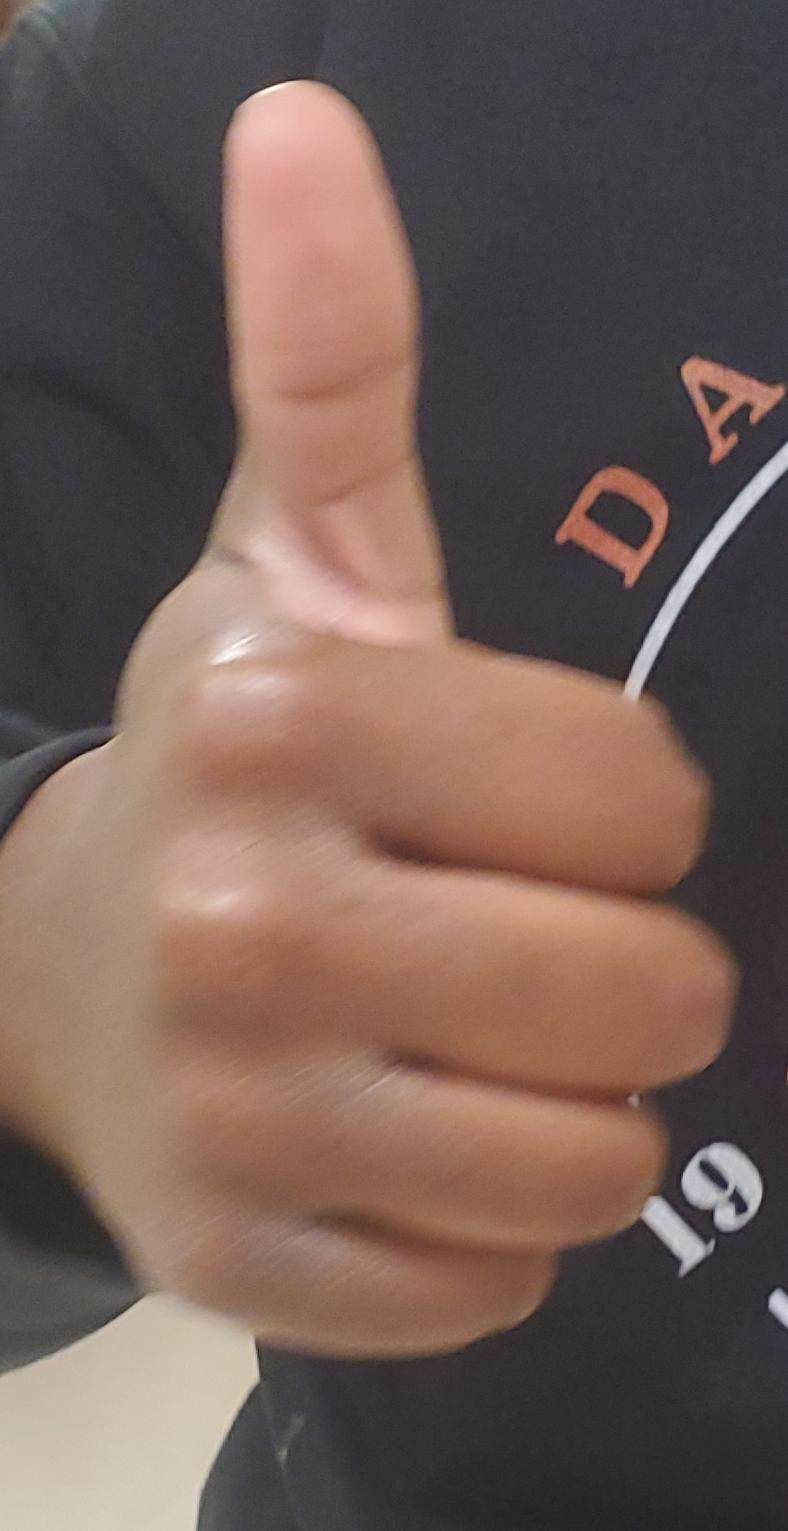up: (0, 1, 788, 1531)
